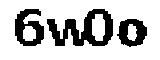0: (85, 7, 114, 48)
6: (12, 5, 47, 50)
o: (118, 16, 151, 52)
w: (46, 15, 87, 50)
